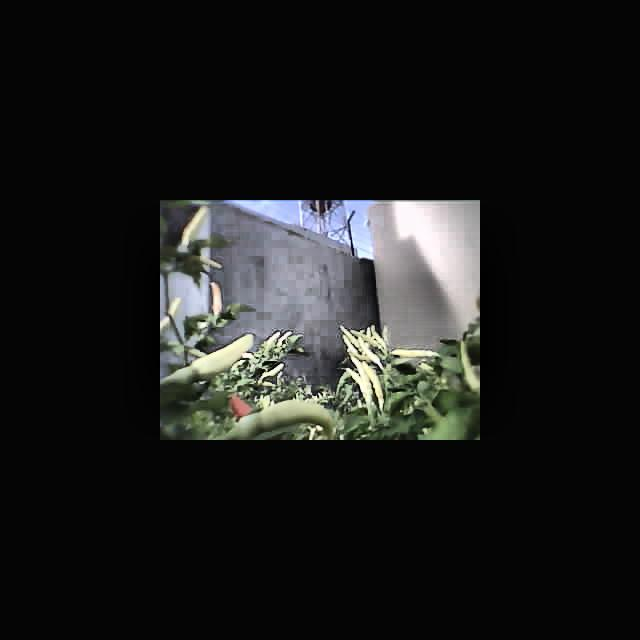Cabai: (221, 393, 261, 416)
